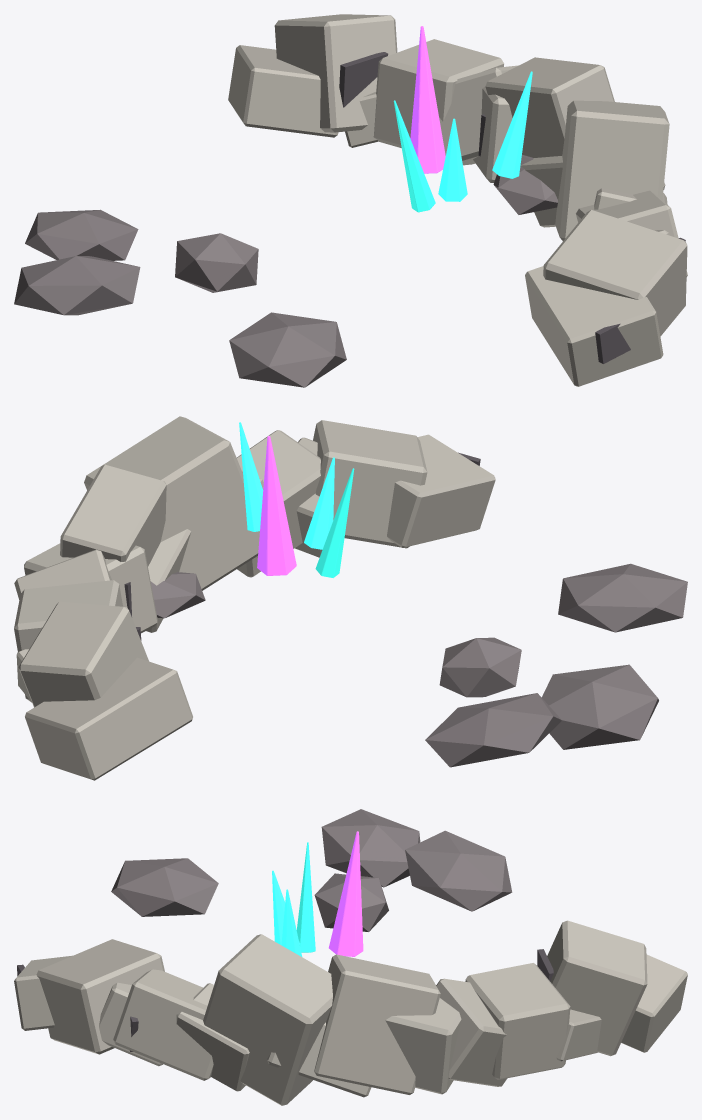
Rendered from runtime.glb.
The picture shows the model from 3 angles, top to bottom: view 1: azimuth 30°, elevation 25°; view 2: azimuth 150°, elevation 25°; view 3: azimuth 270°, elevation 25°; orthographic projection. The views are drawn at different scales.
Parts seen in each view (by area): view 1: crystal-ruins-rubble-cluster-v08_stone_05_nocol, crystal-ruins-rubble-cluster-v08_stone_01_nocol, crystal-ruins-rubble-cluster-v08_stone_00_nocol, crystal-ruins-rubble-cluster-v08_stone_12_nocol, crystal-ruins-rubble-cluster-v08_stone_07_nocol, crystal-ruins-rubble-cluster-v08_deposit_03_nocol, crystal-ruins-rubble-cluster-v08_stone_13_nocol, crystal-ruins-rubble-cluster-v08_stone_10_nocol, crystal-ruins-rubble-cluster-v08_deposit_00_nocol, crystal-ruins-rubble-cluster-v08_deposit_04_nocol, crystal-ruins-rubble-cluster-v08_deposit_01_nocol, crystal-ruins-rubble-cluster-v08_crystal_01_nocol (+12 smaller); view 2: crystal-ruins-rubble-cluster-v08_stone_05_nocol, crystal-ruins-rubble-cluster-v08_stone_13_nocol, crystal-ruins-rubble-cluster-v08_stone_12_nocol, crystal-ruins-rubble-cluster-v08_stone_01_nocol, crystal-ruins-rubble-cluster-v08_stone_00_nocol, crystal-ruins-rubble-cluster-v08_stone_07_nocol, crystal-ruins-rubble-cluster-v08_deposit_00_nocol, crystal-ruins-rubble-cluster-v08_deposit_03_nocol, crystal-ruins-rubble-cluster-v08_deposit_04_nocol, crystal-ruins-rubble-cluster-v08_deposit_01_nocol, crystal-ruins-rubble-cluster-v08_stone_03_nocol, crystal-ruins-rubble-cluster-v08_stone_10_nocol (+9 smaller); view 3: crystal-ruins-rubble-cluster-v08_stone_05_nocol, crystal-ruins-rubble-cluster-v08_stone_07_nocol, crystal-ruins-rubble-cluster-v08_stone_12_nocol, crystal-ruins-rubble-cluster-v08_stone_10_nocol, crystal-ruins-rubble-cluster-v08_stone_01_nocol, crystal-ruins-rubble-cluster-v08_stone_03_nocol, crystal-ruins-rubble-cluster-v08_deposit_04_nocol, crystal-ruins-rubble-cluster-v08_deposit_03_nocol, crystal-ruins-rubble-cluster-v08_deposit_00_nocol, crystal-ruins-rubble-cluster-v08_stone_09_nocol, crystal-ruins-rubble-cluster-v08_stone_08_nocol, crystal-ruins-rubble-cluster-v08_stone_13_nocol (+10 smaller).
Part boxes in pixels (bbox=[...]): crystal-ruins-rubble-cluster-v08_stone_05_nocol: bbox=[555, 100, 669, 240]; crystal-ruins-rubble-cluster-v08_stone_01_nocol: bbox=[543, 210, 687, 336]; crystal-ruins-rubble-cluster-v08_stone_00_nocol: bbox=[525, 266, 663, 386]; crystal-ruins-rubble-cluster-v08_stone_12_nocol: bbox=[274, 14, 397, 132]; crystal-ruins-rubble-cluster-v08_stone_07_nocol: bbox=[485, 57, 614, 157]; crystal-ruins-rubble-cluster-v08_deposit_03_nocol: bbox=[229, 312, 346, 387]; crystal-ruins-rubble-cluster-v08_stone_13_nocol: bbox=[228, 45, 338, 137]; crystal-ruins-rubble-cluster-v08_stone_10_nocol: bbox=[373, 39, 503, 147]; crystal-ruins-rubble-cluster-v08_deposit_00_nocol: bbox=[14, 256, 140, 315]; crystal-ruins-rubble-cluster-v08_deposit_04_nocol: bbox=[25, 209, 138, 260]; crystal-ruins-rubble-cluster-v08_deposit_01_nocol: bbox=[175, 233, 258, 292]; crystal-ruins-rubble-cluster-v08_crystal_01_nocol: bbox=[410, 26, 445, 173]; crystal-ruins-rubble-cluster-v08_stone_05_nocol: bbox=[84, 416, 259, 590]; crystal-ruins-rubble-cluster-v08_stone_13_nocol: bbox=[25, 657, 192, 780]; crystal-ruins-rubble-cluster-v08_stone_12_nocol: bbox=[18, 601, 148, 707]; crystal-ruins-rubble-cluster-v08_stone_01_nocol: bbox=[313, 420, 427, 548]; crystal-ruins-rubble-cluster-v08_stone_00_nocol: bbox=[387, 434, 495, 547]; crystal-ruins-rubble-cluster-v08_stone_07_nocol: bbox=[60, 464, 166, 566]; crystal-ruins-rubble-cluster-v08_deposit_00_nocol: bbox=[542, 664, 658, 749]; crystal-ruins-rubble-cluster-v08_deposit_03_nocol: bbox=[558, 563, 687, 632]; crystal-ruins-rubble-cluster-v08_deposit_04_nocol: bbox=[425, 693, 561, 767]; crystal-ruins-rubble-cluster-v08_deposit_01_nocol: bbox=[439, 637, 521, 697]; crystal-ruins-rubble-cluster-v08_stone_03_nocol: bbox=[237, 430, 320, 577]; crystal-ruins-rubble-cluster-v08_stone_10_nocol: bbox=[14, 580, 122, 701]; crystal-ruins-rubble-cluster-v08_stone_05_nocol: bbox=[203, 934, 332, 1105]; crystal-ruins-rubble-cluster-v08_stone_07_nocol: bbox=[314, 954, 440, 1094]; crystal-ruins-rubble-cluster-v08_stone_12_nocol: bbox=[547, 920, 647, 1056]; crystal-ruins-rubble-cluster-v08_stone_10_nocol: bbox=[465, 963, 570, 1079]; crystal-ruins-rubble-cluster-v08_stone_01_nocol: bbox=[36, 939, 164, 1054]; crystal-ruins-rubble-cluster-v08_stone_03_nocol: bbox=[113, 969, 213, 1080]; crystal-ruins-rubble-cluster-v08_deposit_04_nocol: bbox=[405, 830, 512, 911]; crystal-ruins-rubble-cluster-v08_deposit_03_nocol: bbox=[111, 858, 218, 916]; crystal-ruins-rubble-cluster-v08_deposit_00_nocol: bbox=[321, 809, 420, 887]; crystal-ruins-rubble-cluster-v08_stone_09_nocol: bbox=[436, 978, 507, 1086]; crystal-ruins-rubble-cluster-v08_stone_08_nocol: bbox=[385, 998, 461, 1094]; crystal-ruins-rubble-cluster-v08_stone_13_nocol: bbox=[621, 954, 687, 1052].
Size of the model in its own units: 5.66 by 2.04 by 6.25.
